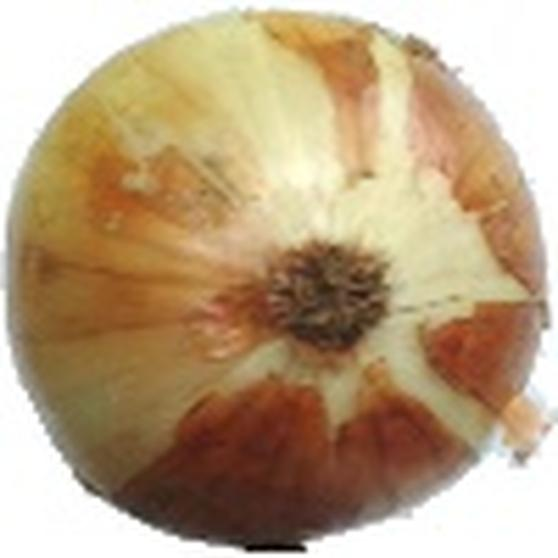onion: (9, 9, 548, 539)
